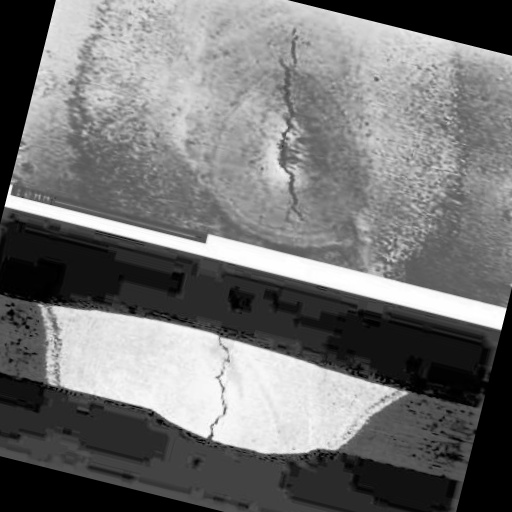crack: (235, 19, 370, 237), (192, 332, 256, 443)
